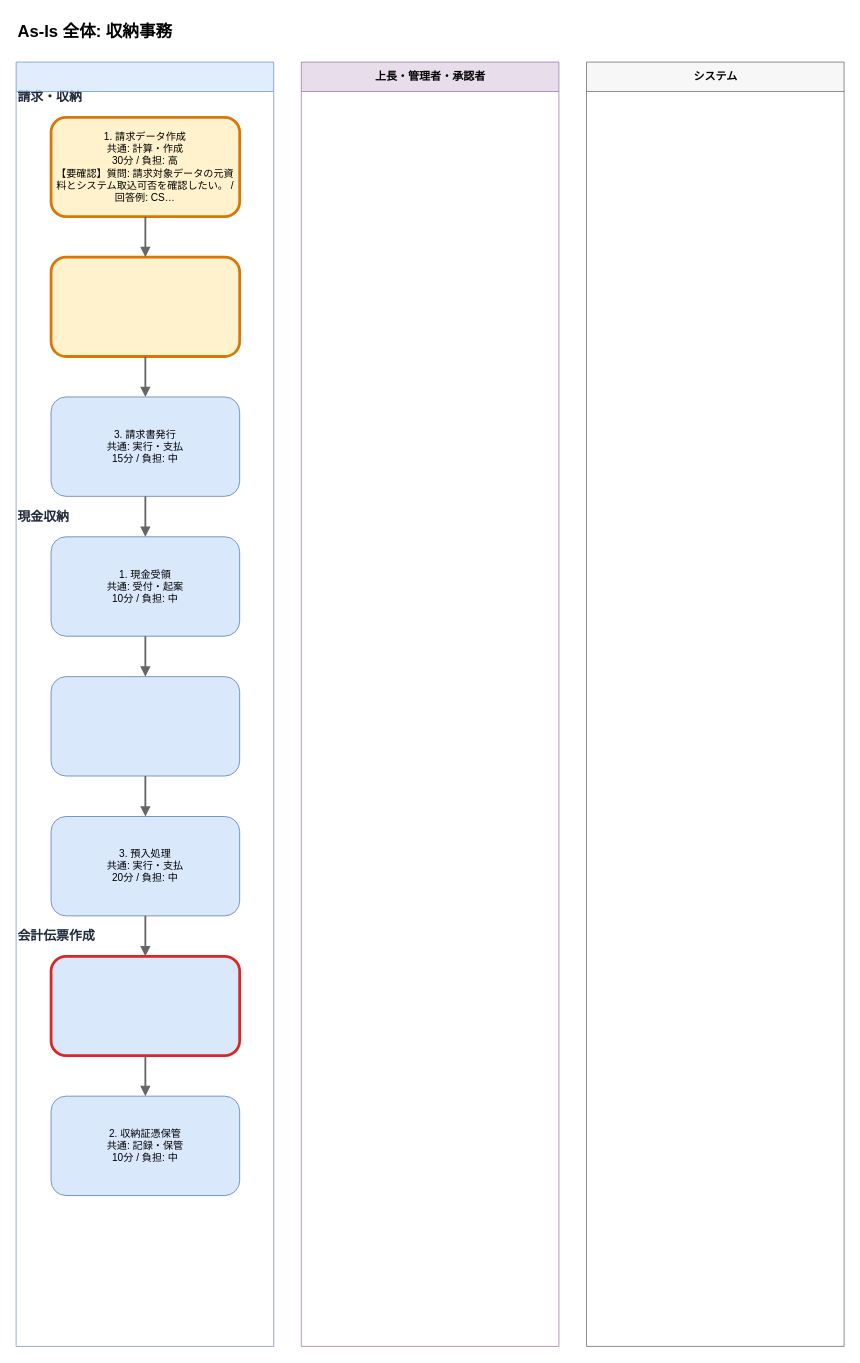
Some shapes in this 860 by 1363 pixel diagram are drawn without their labels. The box of each missing label's shape, as (x1, y1, x2, y2) in pixels:
1. 収納伝票入力 共通: システム入力 15分 / 負担: 高: (49, 954, 241, 1057)
2. 請求内容確認 共通: 内容確認 20分 / 負担: 高 【要確認】質問: 請求内容の二重チェック担当と承認有無を確認したい。 / 回答例: 担当者が…: (49, 255, 241, 357)
2. 領収書発行 共通: 計算・作成 10分 / 負担: 中: (50, 676, 240, 776)
担当者・業務部門: (15, 61, 274, 1346)
